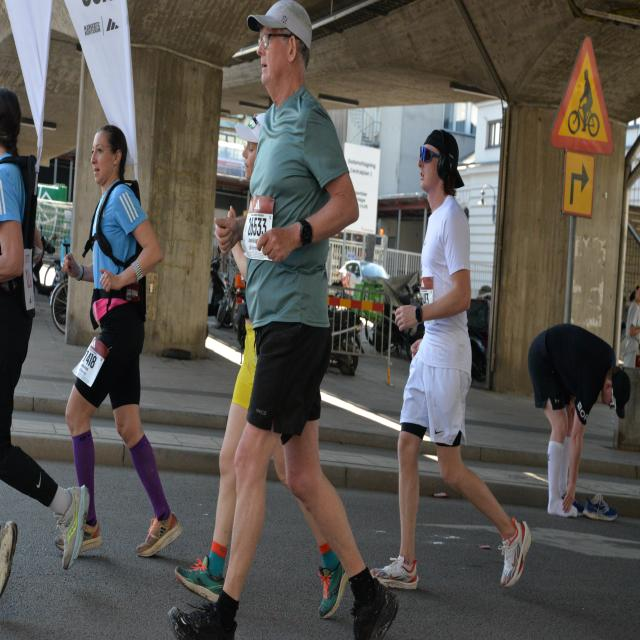runner-detect: (172, 6, 403, 640), (373, 112, 535, 596), (61, 124, 182, 579)
